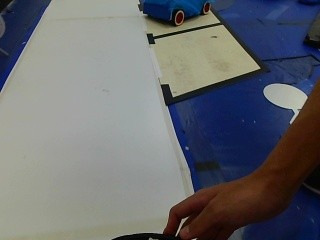car: (135, 0, 213, 29)
